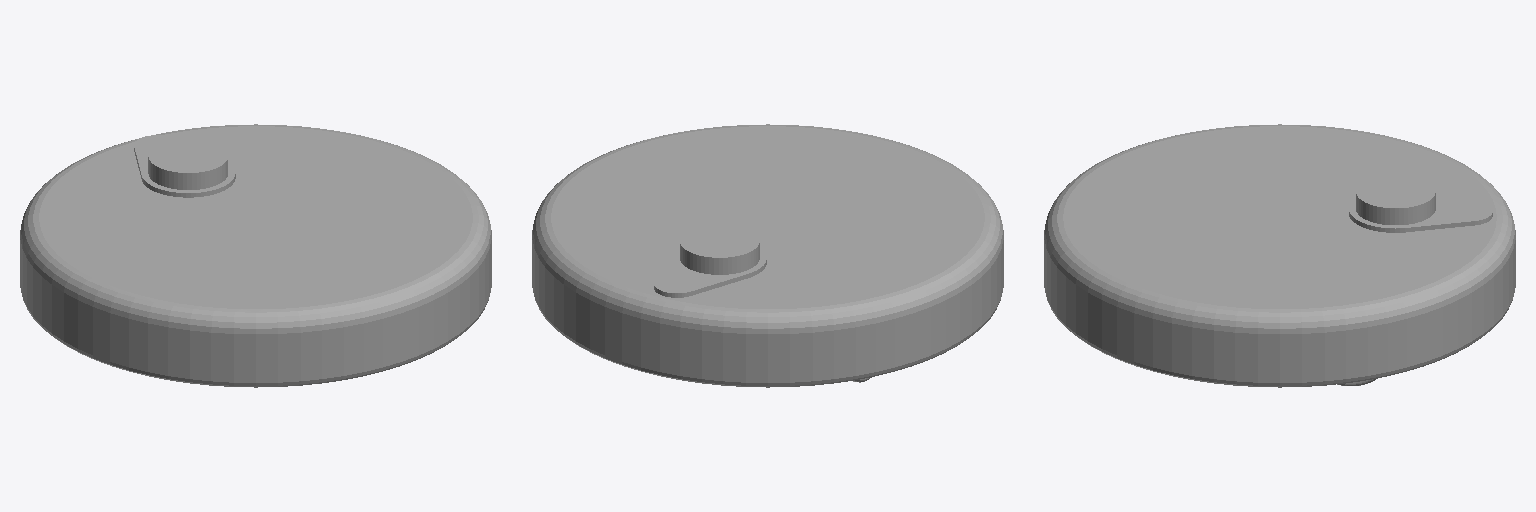
robot.urdf — BadBot:
<?xml version="1.0" ?>
<!-- =================================================================================== -->
<!-- |    This document was autogenerated by xacro from BadBot.xacro                   | -->
<!-- |    EDITING THIS FILE BY HAND IS NOT RECOMMENDED                                 | -->
<!-- =================================================================================== -->
<robot name="BadBot">
  <material name="silver">
    <color rgba="0.700 0.700 0.700 1.000"/>
  </material>
  <transmission name="Rev7_tran">
    <type>transmission_interface/SimpleTransmission</type>
    <joint name="Rev7">
      <hardwareInterface>hardware_interface/EffortJointInterface</hardwareInterface>
    </joint>
    <actuator name="Rev7_actr">
      <hardwareInterface>hardware_interface/EffortJointInterface</hardwareInterface>
      <mechanicalReduction>1</mechanicalReduction>
    </actuator>
  </transmission>
  <transmission name="Rev8_tran">
    <type>transmission_interface/SimpleTransmission</type>
    <joint name="Rev8">
      <hardwareInterface>hardware_interface/EffortJointInterface</hardwareInterface>
    </joint>
    <actuator name="Rev8_actr">
      <hardwareInterface>hardware_interface/EffortJointInterface</hardwareInterface>
      <mechanicalReduction>1</mechanicalReduction>
    </actuator>
  </transmission>
  <transmission name="Rev10_tran">
    <type>transmission_interface/SimpleTransmission</type>
    <joint name="Rev10">
      <hardwareInterface>hardware_interface/EffortJointInterface</hardwareInterface>
    </joint>
    <actuator name="Rev10_actr">
      <hardwareInterface>hardware_interface/EffortJointInterface</hardwareInterface>
      <mechanicalReduction>1</mechanicalReduction>
    </actuator>
  </transmission>
  <gazebo reference="base_link">
    <material>Gazebo/Blue</material>
  </gazebo>
  <gazebo reference="caster_wheel_1">
    <material>Gazebo/Grey</material>
  </gazebo>
  <gazebo reference="right_wheel_1">
    <material>Gazebo/Black</material>
  </gazebo>
  <gazebo reference="right_wheel_axle_1">
    <material>Gazebo/Grey</material>
  </gazebo>
  <gazebo reference="left_wheel_1">
    <material>Gazebo/Black</material>
  </gazebo>
  <gazebo reference="_left_wheel_axle_1">
    <material>Gazebo/Grey</material>
  </gazebo>
  <gazebo reference="lidar_v1_1">
    <material>Gazebo/Red</material>
  </gazebo>
  <gazebo reference="base_link">
    <mu1>0.2</mu1>
    <mu2>0.2</mu2>
    <selfCollide>true</selfCollide>
    <gravity>true</gravity>
  </gazebo>
  <gazebo reference="caster_wheel_">
    <mu1>0.1</mu1>
    <mu2>0.1</mu2>
    <selfCollide>true</selfCollide>
  </gazebo>
  <gazebo reference="right_wheel_1">
    <mu1>1500</mu1>
    <mu2>1500</mu2>
    <selfCollide>true</selfCollide>
  </gazebo>
  <gazebo reference="right_wheel_axle_1">
    <mu1>0.2</mu1>
    <mu2>0.2</mu2>
    <selfCollide>true</selfCollide>
  </gazebo>
  <gazebo reference="left_wheel_1">
    <mu1>1500</mu1>
    <mu2>1500</mu2>
    <selfCollide>true</selfCollide>
  </gazebo>
  <gazebo reference="_left_wheel_axle_1">
    <mu1>0.2</mu1>
    <mu2>0.2</mu2>
    <selfCollide>true</selfCollide>
  </gazebo>
  <gazebo reference="lidar_v1_1">
    <mu1>0.2</mu1>
    <mu2>0.2</mu2>
    <selfCollide>true</selfCollide>
  </gazebo>
  <!--################# ROS CONTROL ###################-->
  <gazebo>
    <plugin filename="libgazebo_ros_control.so" name="control"/>
  </gazebo>
  <!--################# DIFFERENTIAL DRIVE ###################-->
  <gazebo>
    <plugin filename="libgazebo_ros_diff_drive.so" name="differential_drive_controller">
      <!-- Plugin update rate in Hz -->
      <updateRate>10</updateRate>
      <!-- Name of left joint, defaults to `left_joint` -->
      <leftJoint>Rev10</leftJoint>
      <!-- Name of right joint, defaults to `right_joint` -->
      <rightJoint>Rev8</rightJoint>
      <!-- Wheel acceleration, in rad/s^2, defaults to 0.0 rad/s^2 -->
      <wheelAcceleration>1.0</wheelAcceleration>
      <!-- Maximum torque which the wheels can produce, in Nm, defaults to 5 Nm -->
      <wheelTorque>20</wheelTorque>
      <!-- Topic to receive geometry_msgs/Twist message commands, defaults to `cmd_vel` -->
      <commandTopic>cmd_vel</commandTopic>
      <!-- Topic to publish nav_msgs/Odometry messages, defaults to `odom` -->
      <odometryTopic>odom</odometryTopic>
      <!-- Odometry frame, defaults to `odom` -->
      <odometryFrame>odom</odometryFrame>
      <!-- Robot frame to calculate odometry from, defaults to `base_footprint` -->
      <robotBaseFrame>base_link</robotBaseFrame>
      <!-- Odometry source, 0 for ENCODER, 1 for WORLD, defaults to WORLD -->
      <odometrySource>1</odometrySource>
      <!-- Set to true to publish transforms for the wheel links, defaults to false -->
      <publishWheelTF>true</publishWheelTF>
      <!-- Set to true to publish transforms for the odometry, defaults to true -->
      <publishOdom>true</publishOdom>
      <!-- Set to true to publish sensor_msgs/JointState on /joint_states for the wheel joints, defaults to false -->
      <publishWheelJointState>true</publishWheelJointState>
      <!--Set to true to swap right and left wheels, defaults to true -->
      <legacyMode>false</legacyMode>
    </plugin>
  </gazebo>
  <!--################# LIDAR PLUGIN ###################-->
  <gazebo reference="lidar_v1_1">
    <sensor name="ydlidar" type="ray">
      <pose>0 0 0 0 0 0</pose>
      <visualize>true</visualize>
      <update_rate>10</update_rate>
      <ray>
        <scan>
          <horizontal>
            <samples>720</samples>
            <resolution>1</resolution>
            <min_angle>-3.14159</min_angle>
            <max_angle>3.14159</max_angle>
          </horizontal>
        </scan>
        <range>
          <min>0.55</min>
          <max>8.0</max>
          <resolution>0.01</resolution>
        </range>
        <noise>
          <type>gaussian</type>
          <!-- Noise parameters based on published spec for Hokuyo laser
               achieving "+-30mm" accuracy at range < 10m.  A mean of 0.0m and
               stddev of 0.01m will put 99.7% of samples within 0.03m of the true
               reading. -->
          <mean>0.0</mean>
          <stddev>0.01</stddev>
        </noise>
      </ray>
      <plugin filename="libgazebo_ros_laser.so" name="gazebo_ros_head_hokuyo_controller">
        <topicName>/scan</topicName>
        <frameName>lidar_v1_1</frameName>
      </plugin>
    </sensor>
  </gazebo>
  <link name="base_link">
    <inertial>
      <origin rpy="0 0 0" xyz="-0.016271579372150208 0.1417094158489788 0.1370115013532809"/>
      <mass value="28.855052709016757"/>
      <inertia ixx="0.480495" ixy="0.0" ixz="0.0" iyy="0.451805" iyz="-0.001119" izz="0.897614"/>
    </inertial>
    <visual>
      <origin rpy="0 0 0" xyz="0 0 0"/>
      <geometry>
        <mesh filename="package://BadBot_description/meshes/base_link.stl" scale="0.001 0.001 0.001"/>
      </geometry>
      <material name="silver"/>
    </visual>
    <collision>
      <origin rpy="0 0 0" xyz="0 0 0"/>
      <geometry>
        <mesh filename="package://BadBot_description/meshes/base_link.stl" scale="0.001 0.001 0.001"/>
      </geometry>
    </collision>
  </link>
  <link name="caster_wheel_1">
    <inertial>
      <origin rpy="0 0 0" xyz="4.2062784975580025e-07 1.9035339363093762e-07 -1.0802124120190548e-07"/>
      <mass value="1.4008361642356892"/>
      <inertia ixx="0.000686" ixy="-0.0" ixz="-0.0" iyy="0.000686" iyz="-0.0" izz="0.000686"/>
    </inertial>
    <visual>
      <origin rpy="0 0 0" xyz="0.016272 -0.029802 -0.093867"/>
      <geometry>
        <mesh filename="package://BadBot_description/meshes/caster_wheel_1.stl" scale="0.001 0.001 0.001"/>
      </geometry>
      <material name="silver"/>
    </visual>
    <collision>
      <origin rpy="0 0 0" xyz="0.016272 -0.029802 -0.093867"/>
      <geometry>
        <mesh filename="package://BadBot_description/meshes/caster_wheel_1.stl" scale="0.001 0.001 0.001"/>
      </geometry>
    </collision>
  </link>
  <link name="right_wheel_1">
    <inertial>
      <origin rpy="0 0 0" xyz="4.206278496621252e-07 -1.21080121928685e-07 -1.0802128527775956e-07"/>
      <mass value="0.38540002551002456"/>
      <inertia ixx="0.000496" ixy="-0.0" ixz="-0.0" iyy="0.000299" iyz="-0.0" izz="0.000299"/>
    </inertial>
    <visual>
      <origin rpy="0 0 0" xyz="-0.133728 -0.221391 -0.108867"/>
      <geometry>
        <mesh filename="package://BadBot_description/meshes/right_wheel_1.stl" scale="0.001 0.001 0.001"/>
      </geometry>
      <material name="silver"/>
    </visual>
    <collision>
      <origin rpy="0 0 0" xyz="-0.133728 -0.221391 -0.108867"/>
      <geometry>
        <mesh filename="package://BadBot_description/meshes/right_wheel_1.stl" scale="0.001 0.001 0.001"/>
      </geometry>
    </collision>
  </link>
  <link name="right_wheel_axle_1">
    <inertial>
      <origin rpy="0 0 0" xyz="-0.04749957937215024 -1.2108012187317385e-07 -1.080212411880277e-07"/>
      <mass value="0.23876104167282425"/>
      <inertia ixx="1.2e-05" ixy="0.0" ixz="0.0" iyy="0.000186" iyz="-0.0" izz="0.000186"/>
    </inertial>
    <visual>
      <origin rpy="0 0 0" xyz="-0.181228 -0.221391 -0.108867"/>
      <geometry>
        <mesh filename="package://BadBot_description/meshes/right_wheel_axle_1.stl" scale="0.001 0.001 0.001"/>
      </geometry>
      <material name="silver"/>
    </visual>
    <collision>
      <origin rpy="0 0 0" xyz="-0.181228 -0.221391 -0.108867"/>
      <geometry>
        <mesh filename="package://BadBot_description/meshes/right_wheel_axle_1.stl" scale="0.001 0.001 0.001"/>
      </geometry>
    </collision>
  </link>
  <link name="left_wheel_1">
    <inertial>
      <origin rpy="0 0 0" xyz="4.2062784980090306e-07 -1.2108012190092943e-07 -1.0802128526388177e-07"/>
      <mass value="0.38540002551002467"/>
      <inertia ixx="0.000496" ixy="-0.0" ixz="0.0" iyy="0.000299" iyz="0.0" izz="0.000299"/>
    </inertial>
    <visual>
      <origin rpy="0 0 0" xyz="0.166272 -0.221391 -0.108867"/>
      <geometry>
        <mesh filename="package://BadBot_description/meshes/left_wheel_1.stl" scale="0.001 0.001 0.001"/>
      </geometry>
      <material name="silver"/>
    </visual>
    <collision>
      <origin rpy="0 0 0" xyz="0.166272 -0.221391 -0.108867"/>
      <geometry>
        <mesh filename="package://BadBot_description/meshes/left_wheel_1.stl" scale="0.001 0.001 0.001"/>
      </geometry>
    </collision>
  </link>
  <link name="_left_wheel_axle_1">
    <inertial>
      <origin rpy="0 0 0" xyz="-0.04749957937215003 -1.2108012209521846e-07 -1.0802124131292778e-07"/>
      <mass value="0.23876104167282444"/>
      <inertia ixx="1.2e-05" ixy="0.0" ixz="0.0" iyy="0.000186" iyz="-0.0" izz="0.000186"/>
    </inertial>
    <visual>
      <origin rpy="0 0 0" xyz="0.118772 -0.221391 -0.108867"/>
      <geometry>
        <mesh filename="package://BadBot_description/meshes/_left_wheel_axle_1.stl" scale="0.001 0.001 0.001"/>
      </geometry>
      <material name="silver"/>
    </visual>
    <collision>
      <origin rpy="0 0 0" xyz="0.118772 -0.221391 -0.108867"/>
      <geometry>
        <mesh filename="package://BadBot_description/meshes/_left_wheel_axle_1.stl" scale="0.001 0.001 0.001"/>
      </geometry>
    </collision>
  </link>
  <link name="lidar_v1_1">
    <inertial>
      <origin rpy="0 0 0" xyz="-0.004865441389214329 0.1410900178145767 0.016766645484714182"/>
      <mass value="0.3543299620873657"/>
      <inertia ixx="0.000474" ixy="-2.3e-05" ixz="3e-06" iyy="0.000229" iyz="3.1e-05" izz="0.000616"/>
    </inertial>
    <visual>
      <origin rpy="0 0 0" xyz="0.016272 -0.146391 -0.178867"/>
      <geometry>
        <mesh filename="package://BadBot_description/meshes/lidar_v1_1.stl" scale="0.001 0.001 0.001"/>
      </geometry>
      <material name="silver"/>
    </visual>
    <collision>
      <origin rpy="0 0 0" xyz="0.016272 -0.146391 -0.178867"/>
      <geometry>
        <mesh filename="package://BadBot_description/meshes/lidar_v1_1.stl" scale="0.001 0.001 0.001"/>
      </geometry>
    </collision>
  </link>
  <joint name="Rev7" type="continuous">
    <origin rpy="0 0 0" xyz="-0.016272 0.029802 0.093867"/>
    <parent link="base_link"/>
    <child link="caster_wheel_1"/>
    <axis xyz="0.0 0.0 -1.0"/>
  </joint>
  <joint name="Rev8" type="continuous">
    <origin rpy="0 0 0" xyz="-0.0475 0.0 0.0"/>
    <parent link="right_wheel_axle_1"/>
    <child link="right_wheel_1"/>
    <axis xyz="-1.0 0.0 0.0"/>
  </joint>
  <joint name="Rigid9" type="fixed">
    <origin rpy="0 0 0" xyz="0.181228 0.221391 0.108867"/>
    <parent link="base_link"/>
    <child link="right_wheel_axle_1"/>
  </joint>
  <joint name="Rev10" type="continuous">
    <origin rpy="0 0 0" xyz="-0.0475 0.0 0.0"/>
    <parent link="_left_wheel_axle_1"/>
    <child link="left_wheel_1"/>
    <axis xyz="-1.0 0.0 0.0"/>
  </joint>
  <joint name="Rigid11" type="fixed">
    <origin rpy="0 0 0" xyz="-0.118772 0.221391 0.108867"/>
    <parent link="base_link"/>
    <child link="_left_wheel_axle_1"/>
  </joint>
  <joint name="Rigid12" type="fixed">
    <origin rpy="0 0 0" xyz="-0.016272 0.146391 0.178867"/>
    <parent link="base_link"/>
    <child link="lidar_v1_1"/>
  </joint>
</robot>

--- What the picture shows (computed from the rendered views, not written in the file) ---
3 views of the same robot in one strip: view 1: azimuth 30°, elevation 25°; view 2: azimuth 150°, elevation 25°; view 3: azimuth 270°, elevation 25° (orthographic).
Robot: BadBot — 7 links, 6 joints (3 continuous, 3 fixed); root link base_link; default pose: all joints at 0.
Visible links, largest first — view 1: base_link, lidar_v1_1; view 2: base_link, lidar_v1_1; view 3: base_link, lidar_v1_1.
Link boxes in pixels (<box>): base_link: <box>20,124,491,387</box>; lidar_v1_1: <box>134,135,235,197</box>; base_link: <box>532,124,1003,387</box>; lidar_v1_1: <box>654,224,766,297</box>; base_link: <box>1044,124,1515,387</box>; lidar_v1_1: <box>1349,175,1492,232</box>.
Bounding box of the posed robot: 0.5 × 0.4994 × 0.1452 m (x, y, z).
Meshes: 7 distinct files referenced, 7 mesh visuals loaded (7 binary STL).
